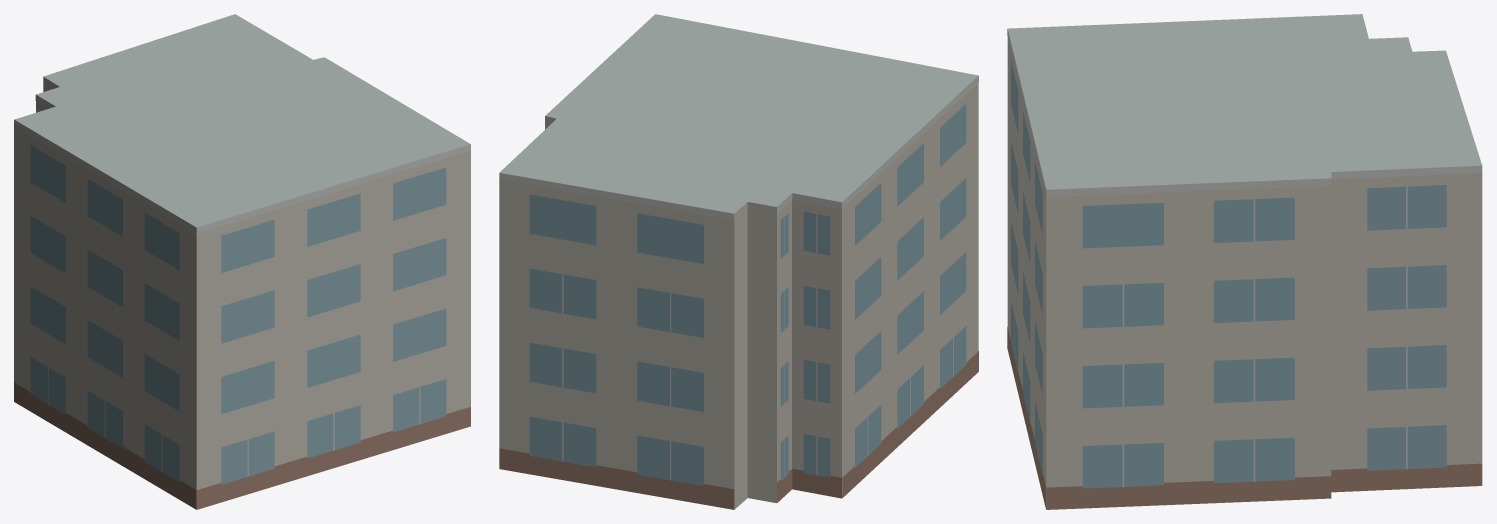
The model's file is survey-upis-32548750.glb.
3 views of the same model, side by side, from view 1: azimuth 30°, elevation 25°; view 2: azimuth 150°, elevation 25°; view 3: azimuth 270°, elevation 25° (orthographic). The views are drawn at different scales.
Visible parts, largest first — view 1: survey-upis-32548750.tmp; view 2: survey-upis-32548750.tmp; view 3: survey-upis-32548750.tmp.
Boxes of the visible parts, x1,y1,x2,y2 form: survey-upis-32548750.tmp: (14, 14, 470, 509); survey-upis-32548750.tmp: (499, 14, 978, 509); survey-upis-32548750.tmp: (1007, 14, 1482, 509).
Bounding box in the file's own units: 12.6 × 10.7 × 14.39.
